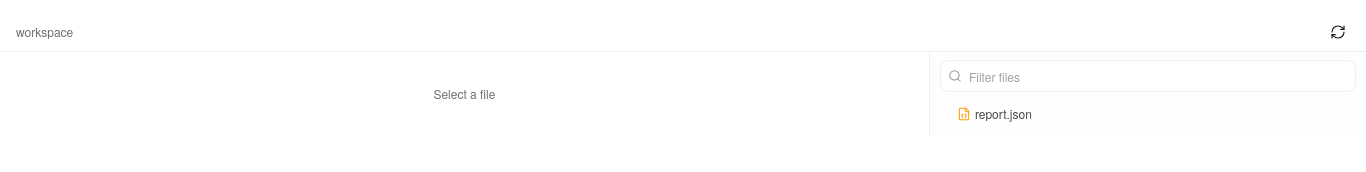
Test case: WorkspacePanel › loads a selected file immediately and exposes its breadcrumb and download
Click the button "report.json".
click(1003, 114)  # box [936,100,1360,128]
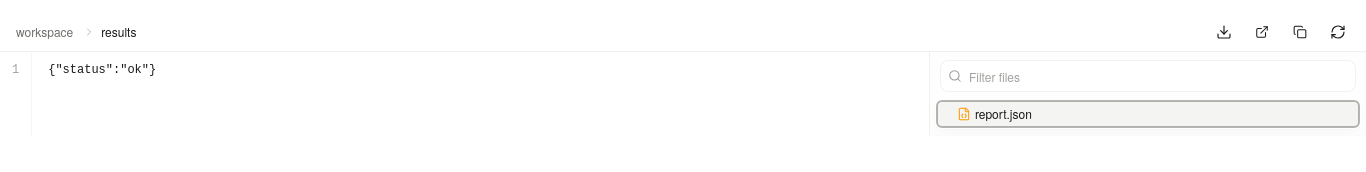
Expected: the text "report.json" is shown once, [975,105,1032,122]
Result: the element with test id "workspace-code-preview" shows "{\"status\":\"ok\"}" at [48,63,156,77]
Result: the text "results" is shown at [101,22,136,40]
